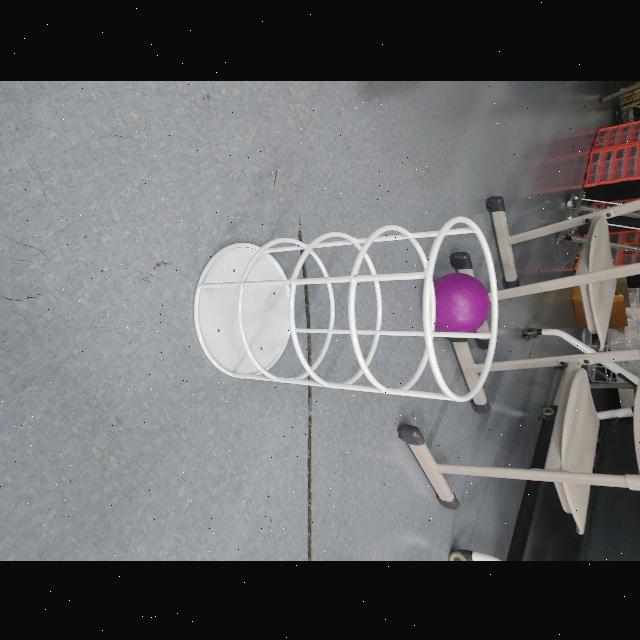S: (193, 210, 502, 404)
